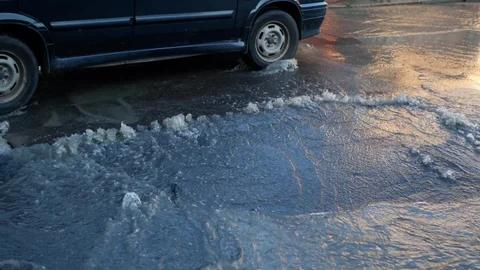water_leak: (1, 85, 478, 268)
